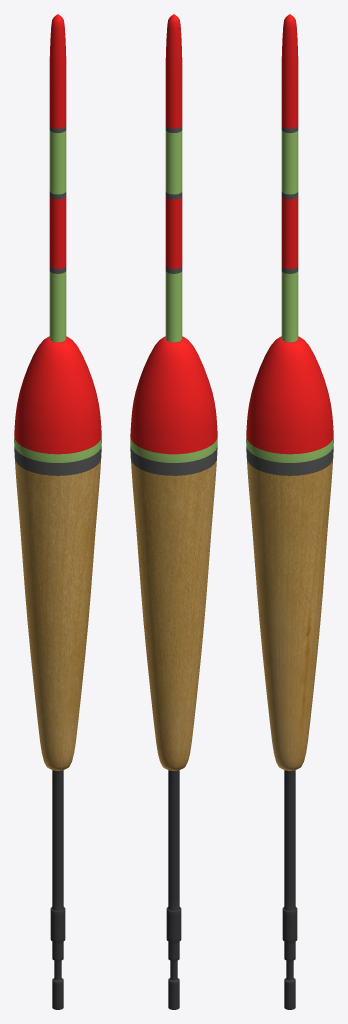
File: float_02.fbx
3 renders of one model, left to right at view 1: azimuth 90°, elevation 25°; view 2: azimuth 150°, elevation 25°; view 3: azimuth 270°, elevation 25°, orthographic.
Parts seen in each view (by area): view 1: Float_02; view 2: Float_02; view 3: Float_02.
Part boxes in pixels (left/top/right/bottom): Float_02: left=14, top=14, right=101, bottom=1009; Float_02: left=130, top=14, right=217, bottom=1009; Float_02: left=246, top=14, right=333, bottom=1009.
Size of the model in its own units: 45.6 by 570 by 45.6.
